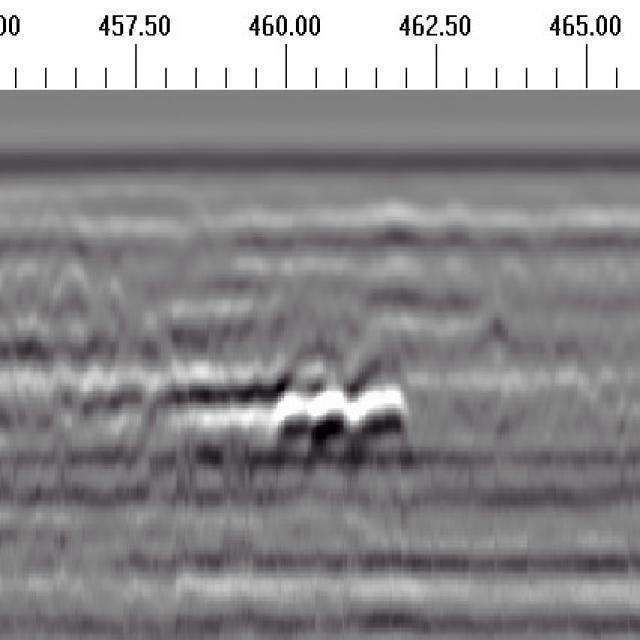loose: (165, 338, 411, 477)
